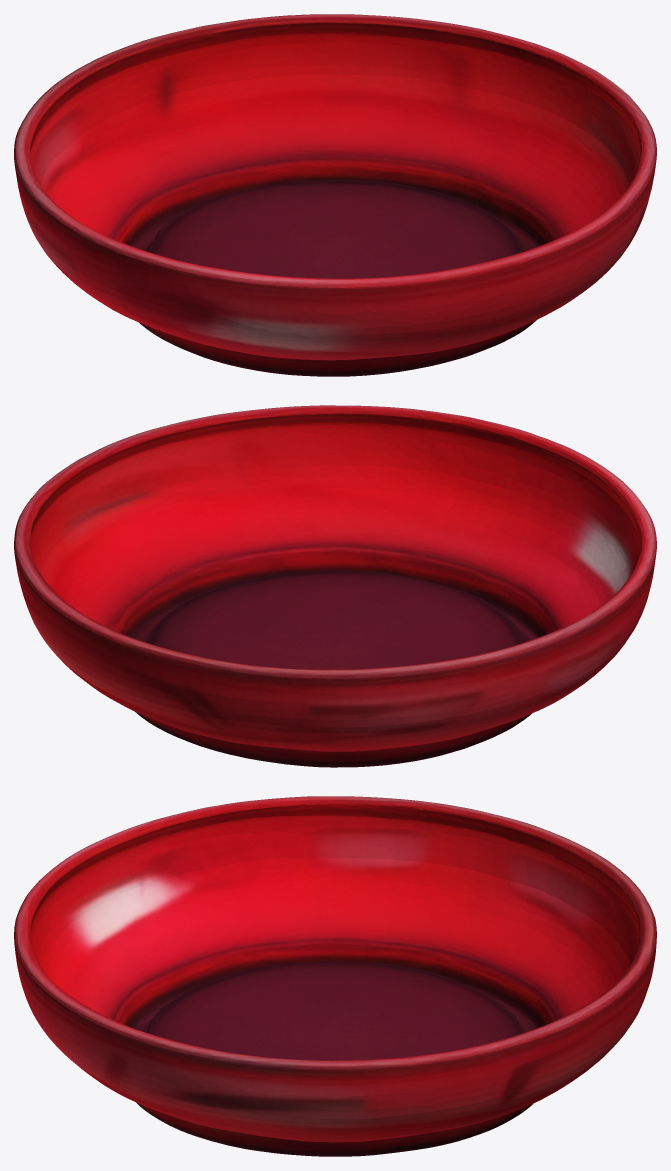
The model's file is bowl_textured.obj.
3 views of the same model, one above another, from view 1: azimuth 30°, elevation 25°; view 2: azimuth 150°, elevation 25°; view 3: azimuth 270°, elevation 25° (orthographic).
Visible parts, largest first — view 1: obj1; view 2: obj1; view 3: obj1.
Part boxes in pixels (x1,y1,x2,y2): obj1: (14, 14, 656, 376); obj1: (14, 405, 656, 767); obj1: (14, 796, 656, 1156).
Bounding box in the file's own units: 0.9998 × 0.2392 × 0.9998.
Materials: 1 (1 with a texture image).
